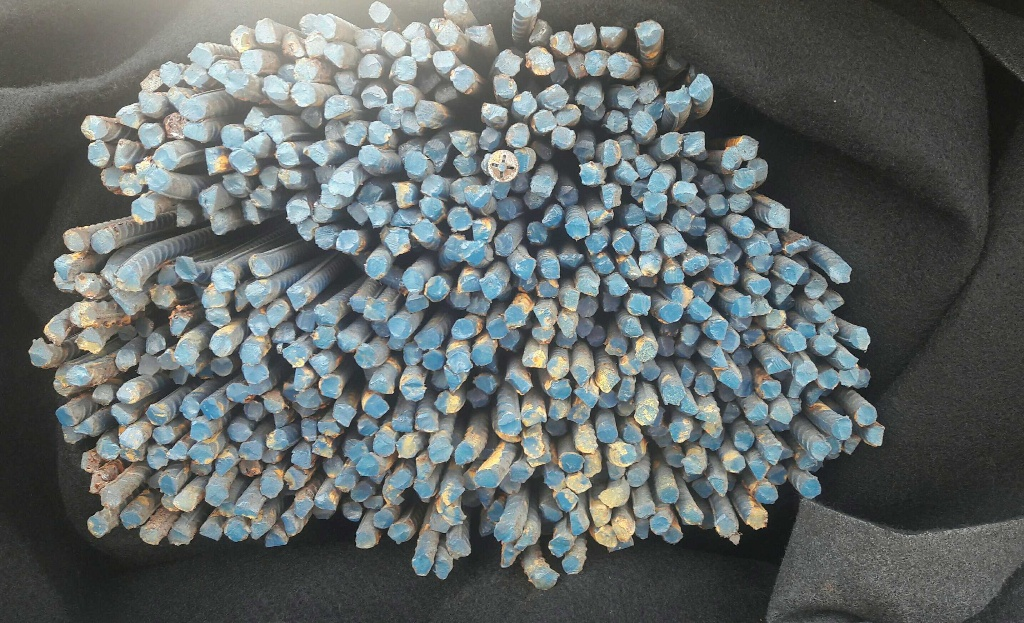dipstick: (81, 115, 110, 139)
dipstickw: (109, 288, 148, 316), (225, 70, 258, 99), (138, 89, 166, 118), (526, 47, 555, 75), (198, 184, 228, 211), (573, 84, 603, 111), (230, 149, 260, 175), (665, 86, 691, 115), (712, 258, 739, 285), (784, 259, 811, 286), (54, 254, 80, 282), (449, 131, 477, 157), (115, 139, 140, 168), (244, 132, 273, 157), (495, 49, 521, 76), (324, 95, 353, 119), (29, 338, 53, 367), (154, 144, 180, 170), (275, 142, 301, 168), (329, 171, 355, 197), (481, 102, 507, 128), (585, 50, 611, 76), (631, 112, 657, 138), (364, 203, 391, 228), (385, 229, 410, 256), (70, 302, 97, 327), (436, 390, 465, 413), (294, 57, 320, 82), (263, 75, 289, 100), (320, 183, 345, 209), (343, 120, 368, 146), (75, 273, 100, 299), (75, 328, 101, 353), (419, 196, 445, 221), (472, 218, 497, 244), (544, 85, 569, 111), (636, 21, 662, 46), (223, 173, 250, 197), (382, 30, 406, 57), (202, 284, 229, 308), (464, 185, 492, 208), (579, 162, 607, 185), (690, 73, 713, 101), (138, 123, 163, 148), (131, 198, 156, 223), (174, 340, 199, 365), (555, 103, 580, 128), (188, 42, 212, 68), (290, 83, 316, 107), (114, 267, 140, 291), (43, 319, 67, 345), (429, 437, 453, 463), (506, 371, 532, 395), (600, 26, 626, 50), (615, 133, 639, 159), (88, 140, 110, 168), (529, 18, 551, 46), (115, 105, 140, 129), (220, 125, 244, 150), (146, 169, 171, 193), (357, 183, 382, 207), (367, 120, 392, 144), (90, 230, 115, 254), (425, 277, 449, 302), (453, 153, 478, 177), (550, 31, 575, 55), (608, 52, 632, 77), (643, 191, 668, 215), (245, 281, 268, 307), (416, 99, 439, 125), (452, 68, 475, 94), (568, 52, 591, 78), (530, 567, 557, 589), (683, 254, 710, 276), (178, 99, 206, 120), (226, 383, 254, 404), (599, 486, 628, 506), (183, 63, 207, 87), (286, 199, 310, 223), (332, 71, 356, 95), (357, 55, 381, 79), (225, 517, 249, 541), (400, 377, 424, 401), (573, 24, 597, 48), (614, 161, 638, 185), (231, 25, 254, 50), (254, 18, 277, 43), (282, 32, 305, 57), (150, 284, 175, 307), (56, 404, 81, 427), (394, 182, 417, 207), (315, 302, 340, 325), (688, 297, 711, 322), (767, 204, 790, 229), (159, 61, 181, 87), (240, 199, 262, 225), (282, 345, 308, 367), (637, 77, 659, 103), (263, 116, 284, 143), (242, 363, 269, 384), (640, 249, 661, 276), (599, 140, 620, 167), (837, 360, 858, 387), (780, 331, 807, 352), (119, 173, 143, 196), (336, 230, 360, 253), (249, 254, 273, 277), (271, 321, 295, 344), (312, 325, 335, 349), (393, 85, 416, 109), (404, 151, 427, 175), (364, 395, 388, 418), (354, 345, 378, 368), (504, 304, 527, 328), (575, 385, 599, 408), (552, 126, 575, 150), (794, 361, 817, 385), (305, 32, 327, 57), (245, 107, 267, 132), (361, 86, 386, 108), (354, 29, 379, 51), (479, 274, 501, 299), (450, 318, 475, 340), (507, 123, 529, 148), (603, 335, 628, 357), (635, 337, 657, 362), (558, 310, 579, 336), (101, 168, 124, 191), (240, 50, 263, 73), (250, 186, 273, 209), (212, 269, 235, 292), (393, 56, 416, 79), (140, 69, 162, 93), (304, 144, 328, 166), (119, 427, 143, 449), (200, 398, 224, 420), (448, 208, 472, 230), (332, 405, 356, 427), (345, 439, 369, 461), (612, 444, 636, 466), (531, 175, 555, 197), (565, 217, 589, 239), (627, 293, 651, 315), (494, 74, 516, 98), (468, 25, 492, 47), (617, 85, 639, 109), (635, 154, 657, 178), (668, 420, 692, 442), (733, 167, 757, 189), (238, 344, 263, 365), (145, 404, 170, 425), (521, 405, 546, 426), (554, 490, 579, 511), (559, 452, 584, 473), (514, 147, 535, 172), (324, 43, 344, 69), (111, 404, 137, 424), (410, 37, 430, 63), (369, 374, 395, 394), (415, 330, 441, 350), (775, 285, 795, 311), (701, 175, 727, 195), (296, 218, 318, 241), (300, 107, 322, 130), (63, 230, 86, 252), (266, 305, 288, 328), (205, 484, 228, 506), (285, 468, 307, 491), (365, 299, 388, 321), (319, 375, 341, 398), (322, 455, 344, 478), (474, 372, 497, 394), (499, 413, 521, 436), (389, 317, 412, 339), (620, 353, 642, 376), (664, 234, 686, 257), (675, 182, 697, 205), (314, 226, 335, 250), (357, 144, 381, 165), (175, 256, 196, 280), (66, 365, 90, 386), (116, 381, 140, 402), (432, 50, 456, 71), (449, 180, 470, 204), (308, 355, 332, 376), (543, 205, 564, 229), (515, 91, 536, 115), (205, 308, 230, 328), (403, 340, 423, 365), (548, 379, 573, 399), (851, 326, 871, 351), (748, 158, 768, 183), (188, 444, 214, 463), (764, 355, 790, 374), (365, 257, 387, 279), (210, 334, 232, 356), (115, 349, 137, 371), (357, 454, 379, 476), (592, 252, 614, 274), (624, 204, 646, 226), (606, 110, 628, 132), (693, 374, 715, 396), (723, 451, 745, 473), (855, 403, 877, 425), (248, 315, 271, 336), (156, 349, 179, 370), (96, 439, 119, 460), (100, 486, 123, 507), (86, 516, 109, 537), (260, 477, 283, 498), (634, 404, 657, 425), (596, 524, 617, 547), (480, 128, 501, 151), (662, 132, 683, 155), (575, 432, 598, 453), (167, 87, 187, 111), (208, 62, 228, 86), (316, 15, 336, 39), (183, 122, 207, 142), (313, 200, 333, 224), (347, 202, 367, 226), (179, 397, 199, 421), (140, 525, 164, 545), (168, 524, 192, 544), (388, 522, 412, 542), (601, 183, 621, 207), (672, 286, 692, 310), (827, 264, 851, 284), (738, 135, 758, 159), (259, 165, 278, 190), (447, 352, 472, 371), (566, 474, 591, 493), (369, 1, 390, 23), (286, 289, 307, 311), (138, 354, 159, 376), (267, 429, 289, 450), (293, 497, 314, 519), (374, 435, 395, 457), (471, 345, 493, 366), (547, 356, 568, 378), (613, 519, 634, 541), (589, 505, 611, 526), (578, 276, 600, 297), (613, 234, 634, 256), (771, 403, 792, 425), (719, 368, 741, 389), (806, 277, 827, 299), (731, 216, 753, 237), (210, 356, 233, 376), (447, 539, 470, 559), (475, 469, 498, 489), (522, 437, 545, 457), (545, 417, 568, 437), (662, 385, 685, 405), (754, 484, 777, 504), (587, 208, 614, 225), (296, 308, 315, 332), (173, 493, 197, 512), (297, 388, 321, 407), (311, 440, 335, 459), (686, 132, 705, 156), (631, 178, 650, 202), (276, 168, 301, 186), (318, 420, 343, 438), (495, 522, 520, 540), (145, 334, 166, 355), (146, 447, 167, 468), (80, 451, 101, 472), (412, 220, 433, 241), (397, 436, 418, 457), (351, 481, 372, 502), (453, 443, 474, 464), (658, 483, 679, 504), (527, 222, 548, 243), (540, 258, 561, 279), (577, 296, 598, 317), (437, 26, 458, 47), (706, 320, 727, 341), (706, 233, 727, 254), (708, 194, 729, 215), (210, 213, 230, 235), (403, 270, 423, 292), (449, 289, 471, 309), (549, 536, 571, 556), (541, 501, 563, 521), (608, 273, 628, 295), (661, 302, 683, 322), (536, 109, 556, 131), (691, 478, 713, 498), (763, 442, 783, 464), (817, 369, 839, 389), (751, 253, 773, 273), (698, 403, 720, 423), (119, 510, 142, 529), (240, 441, 263, 460), (445, 1, 468, 20), (401, 111, 420, 134), (494, 233, 513, 256), (597, 372, 620, 391), (496, 199, 515, 222), (672, 209, 691, 232), (833, 417, 852, 440), (415, 414, 439, 432), (584, 235, 608, 253), (682, 456, 706, 474), (745, 239, 770, 256), (324, 120, 344, 141), (158, 266, 178, 287), (243, 400, 263, 421), (215, 455, 236, 475), (89, 472, 109, 493), (290, 446, 310, 467), (263, 392, 284, 412), (358, 414, 378, 435), (391, 469, 412, 489), (423, 350, 444, 370), (559, 289, 579, 310), (747, 507, 767, 528), (810, 439, 831, 459), (815, 334, 836, 354), (749, 276, 770, 296), (169, 317, 191, 336), (152, 425, 174, 444), (422, 176, 444, 195), (467, 388, 489, 407), (458, 273, 480, 292), (487, 320, 509, 339), (536, 279, 558, 298), (621, 319, 643, 338), (639, 228, 658, 250), (681, 324, 700, 346), (722, 148, 741, 170), (227, 423, 250, 441), (571, 511, 589, 534), (177, 203, 194, 227), (133, 317, 153, 337), (337, 333, 357, 353), (515, 258, 535, 278), (720, 403, 740, 423), (92, 386, 113, 405), (342, 501, 361, 522), (412, 555, 431, 576), (562, 555, 583, 574), (570, 366, 591, 385), (534, 308, 555, 327), (532, 325, 553, 344), (587, 325, 606, 346), (766, 466, 787, 485), (800, 477, 819, 498), (747, 404, 768, 423), (190, 423, 212, 441), (200, 523, 222, 541), (732, 432, 754, 450), (681, 507, 704, 524), (522, 352, 546, 368), (518, 1, 542, 17), (373, 509, 392, 529), (445, 506, 464, 526), (623, 424, 643, 443), (717, 517, 737, 536), (761, 379, 781, 398), (810, 304, 830, 323), (335, 475, 356, 493), (509, 463, 530, 481), (663, 267, 685, 284), (748, 461, 770, 478), (734, 295, 751, 317), (159, 476, 179, 494), (430, 515, 450, 533), (597, 425, 617, 443), (558, 187, 578, 205), (657, 336, 674, 357), (866, 425, 883, 446), (301, 418, 316, 441), (431, 370, 449, 389), (627, 469, 646, 487), (752, 296, 770, 315), (838, 350, 858, 367), (282, 515, 298, 536), (355, 532, 376, 548), (392, 416, 413, 432), (633, 501, 654, 517), (434, 560, 451, 579), (666, 450, 685, 467), (414, 482, 434, 498), (265, 532, 287, 546), (299, 14, 316, 32), (350, 296, 368, 313), (650, 517, 668, 534), (664, 526, 682, 543), (117, 325, 136, 341)
